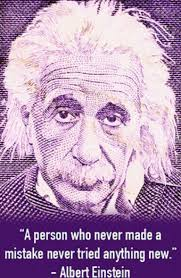No-Glasses: (34, 89, 141, 133)
